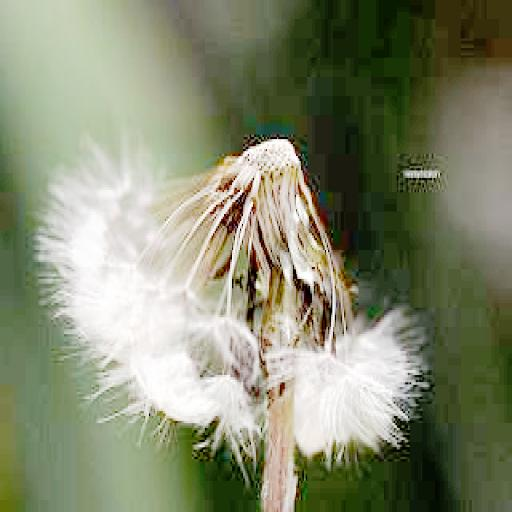dandelion: (45, 118, 430, 476)
